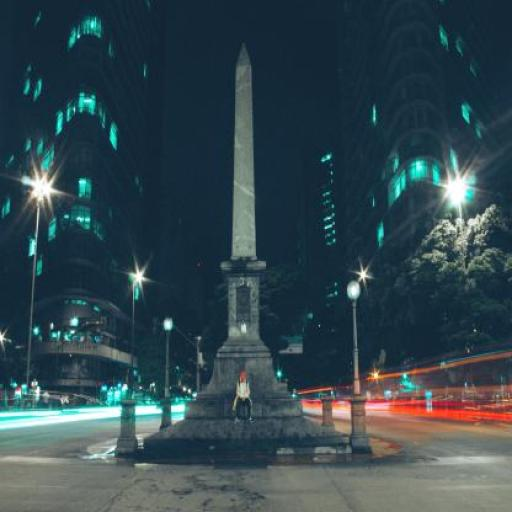street light: (449, 178, 478, 410), (24, 184, 54, 406), (130, 272, 144, 399)
